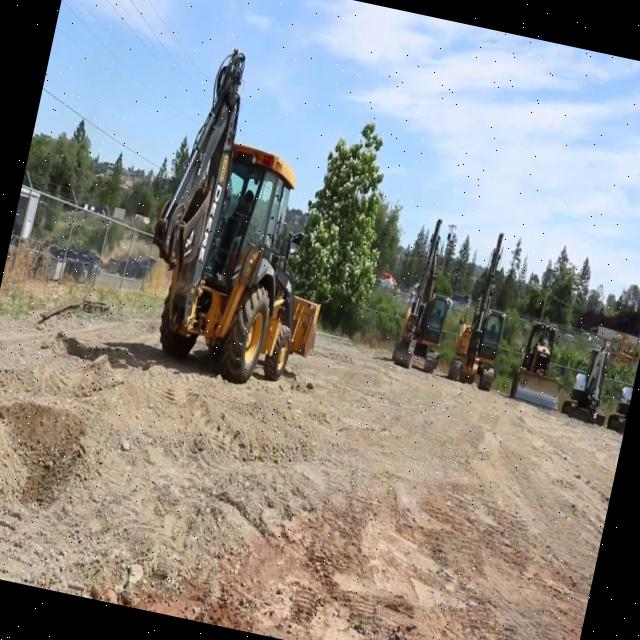Excavator: (386, 212, 468, 378), (443, 228, 524, 394), (560, 338, 620, 426), (604, 352, 640, 432)
Loader: (508, 316, 576, 411)
